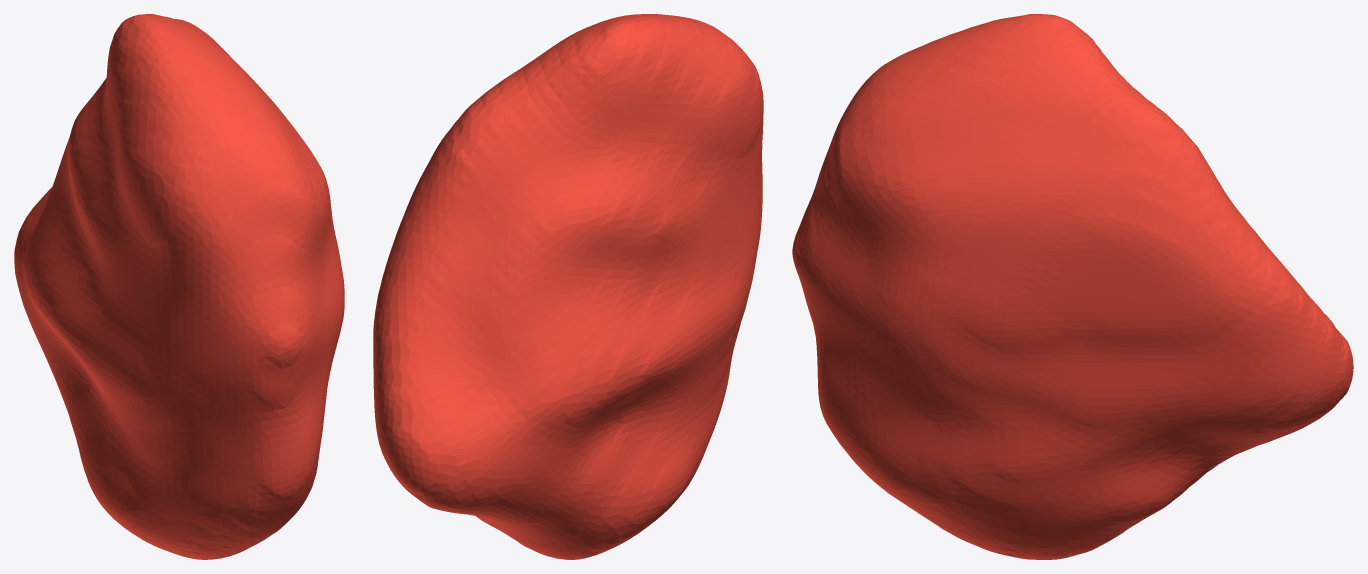
The model's file is case_16_stroke.gltf.
3 renders of one model, left to right at view 1: azimuth 30°, elevation 25°; view 2: azimuth 150°, elevation 25°; view 3: azimuth 270°, elevation 25°, orthographic. The views are drawn at different scales.
Parts seen in each view (by area): view 1: stroke; view 2: stroke; view 3: stroke.
Boxes of the visible parts, box(x1,y1,x2,y2) form: stroke: box(14, 14, 344, 559); stroke: box(373, 14, 763, 559); stroke: box(792, 14, 1353, 559).
Bounding box in the file's own units: 0.7841 × 1.88 × 1.84.
